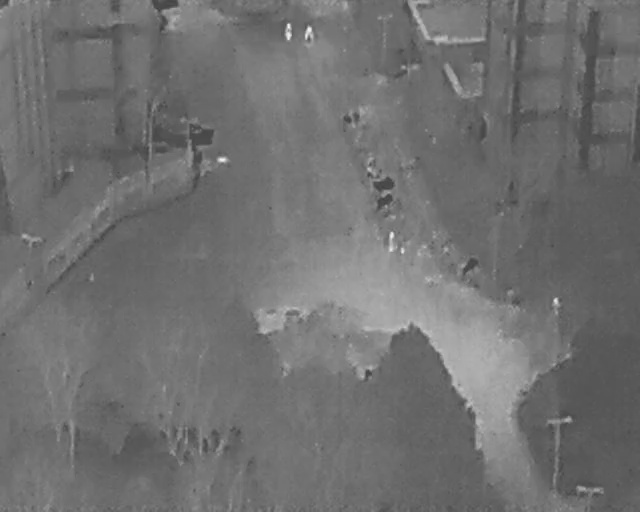Person: (282, 21, 294, 42), (304, 22, 314, 43), (386, 231, 396, 252), (552, 296, 561, 318)
